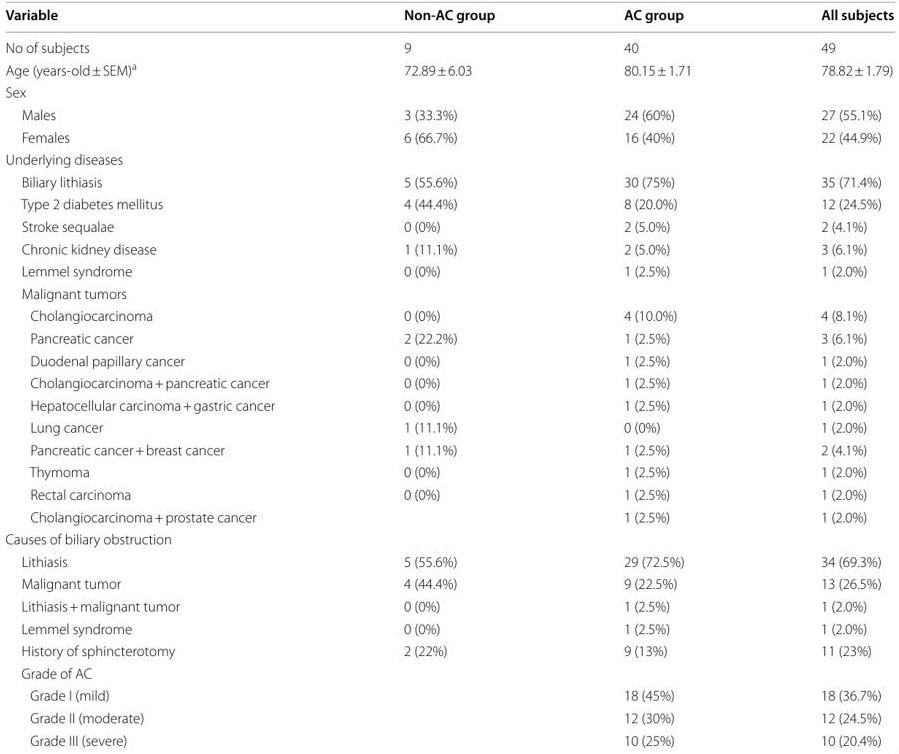table: (4, 4, 893, 748)
table column: (4, 4, 338, 748), (338, 4, 558, 748), (558, 4, 755, 748), (755, 4, 893, 748)
table column header: (4, 4, 893, 31)
table projected row header: (4, 527, 893, 550), (4, 661, 893, 684), (4, 81, 893, 103), (4, 148, 893, 170), (4, 282, 893, 304)
table row: (4, 4, 893, 31), (4, 31, 893, 57), (4, 57, 893, 81), (4, 125, 893, 148), (4, 192, 893, 215), (4, 259, 893, 282), (4, 326, 893, 349), (4, 393, 893, 416), (4, 460, 893, 483), (4, 527, 893, 550), (4, 594, 893, 617), (4, 661, 893, 684), (4, 706, 893, 729), (4, 81, 893, 103), (4, 103, 893, 125), (4, 148, 893, 170), (4, 170, 893, 192), (4, 215, 893, 237), (4, 237, 893, 259), (4, 282, 893, 304), (4, 304, 893, 326), (4, 349, 893, 371), (4, 371, 893, 393), (4, 416, 893, 438), (4, 438, 893, 460), (4, 483, 893, 505), (4, 505, 893, 527), (4, 550, 893, 572), (4, 572, 893, 594), (4, 617, 893, 639), (4, 639, 893, 661), (4, 684, 893, 706), (4, 729, 893, 748)
